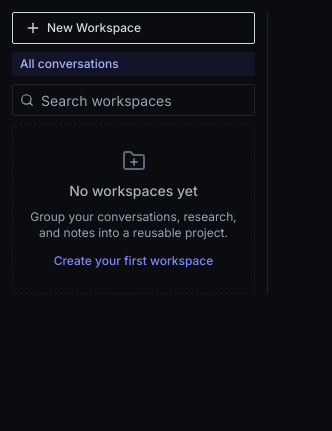
Test case: WorkspaceSidebar — create workspace › the empty state's own action button also opens the create form
Click the button with test id "workspace-sidebar-empty-action" at (133, 261), box [54,253,213,269]
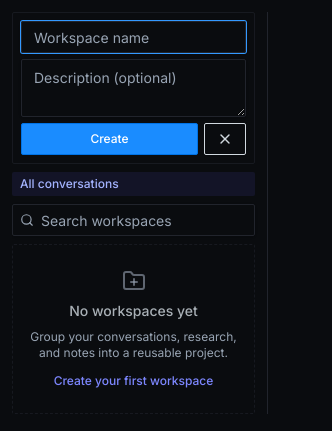
Now the element with test id "workspace-sidebar-create-form" is shown, box [12,12,255,164]
